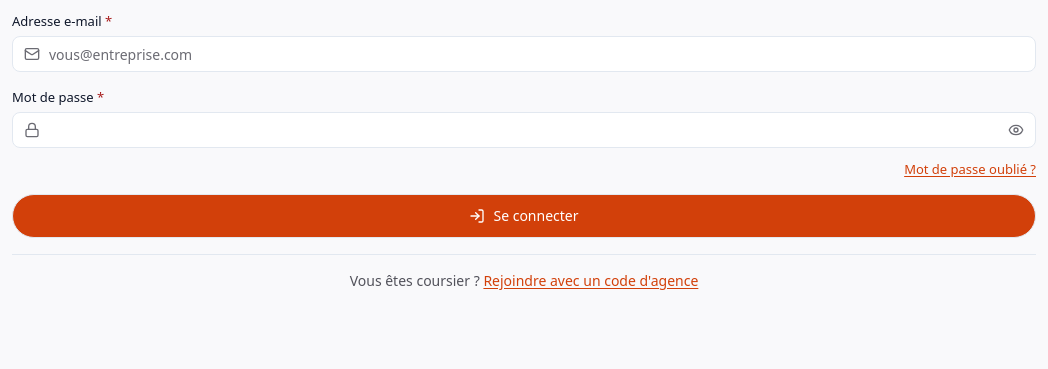
Test: login › refuses an unknown role instead of treating it as a vendor
Type "awa@example.com" into the field labelled "Adresse e-mail *" at coordinates (524, 54), box [12,36,1036,72]
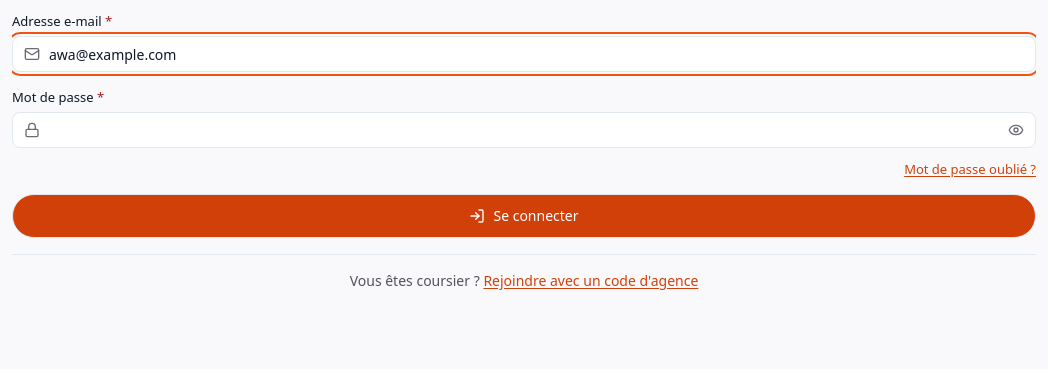
Type "secret123" into the password field labelled "Mot de passe *" at coordinates (524, 130), box [12,112,1036,148]
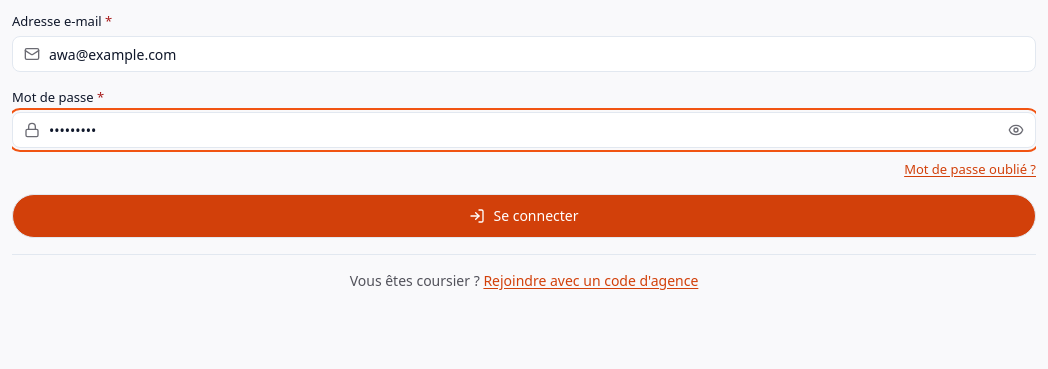
Click the button "Se connecter" at coordinates (524, 216), box [12,194,1036,238]
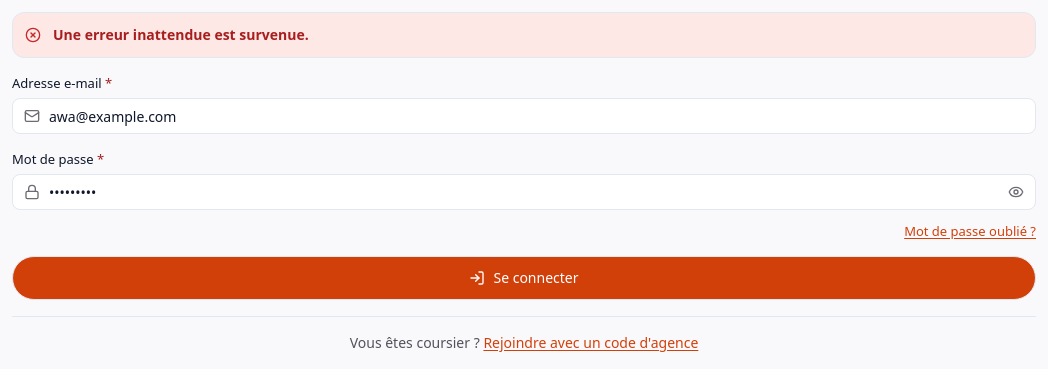
Now the text "Une erreur inattendue est survenue." is shown, box [53,25,309,44]
